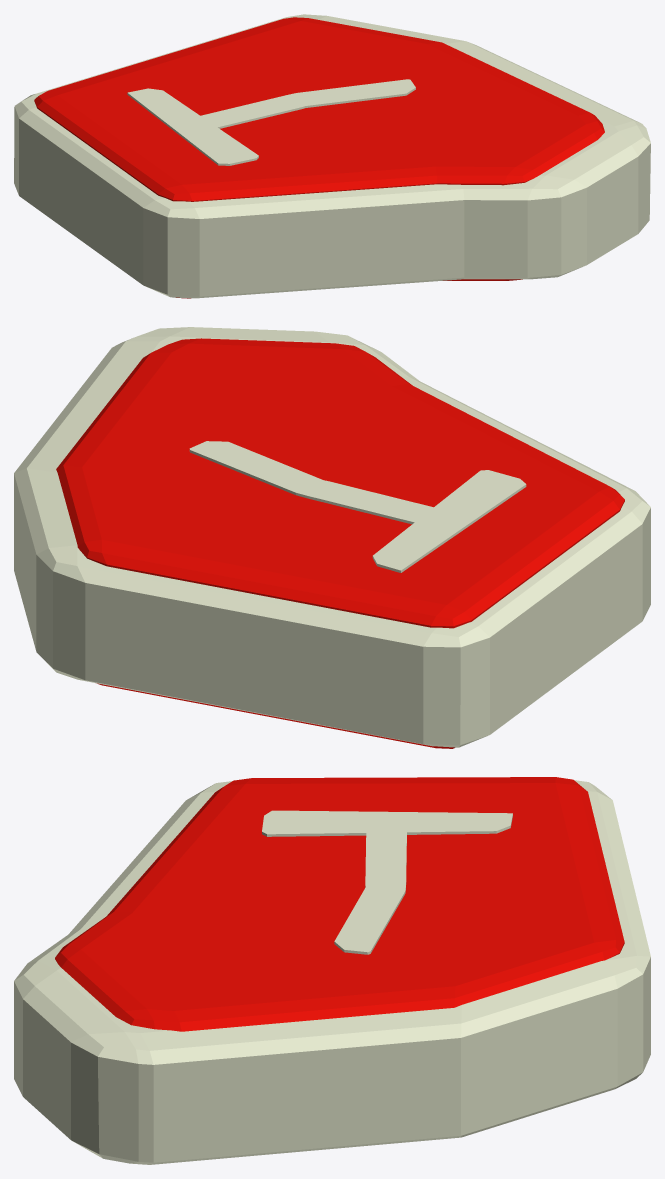
File: Steak.fbx
3 renders of one model, top to bottom at view 1: azimuth 30°, elevation 25°; view 2: azimuth 150°, elevation 25°; view 3: azimuth 270°, elevation 25°, orthographic. The views are drawn at different scales.
Parts seen in each view (by area): view 1: Cube, Cube.001, Cube.002; view 2: Cube.001, Cube, Cube.002; view 3: Cube.001, Cube, Cube.002.
Boxes of the visible parts, bbox=[...] form: Cube: bbox=[14, 14, 650, 298]; Cube.001: bbox=[34, 17, 604, 298]; Cube.002: bbox=[127, 79, 415, 165]; Cube.001: bbox=[56, 338, 624, 748]; Cube: bbox=[14, 327, 650, 747]; Cube.002: bbox=[189, 441, 526, 572]; Cube.001: bbox=[55, 777, 624, 1031]; Cube: bbox=[14, 780, 650, 1164]; Cube.002: bbox=[262, 810, 512, 954].
Bounding box in the file's own units: 268 × 62.63 × 254.
